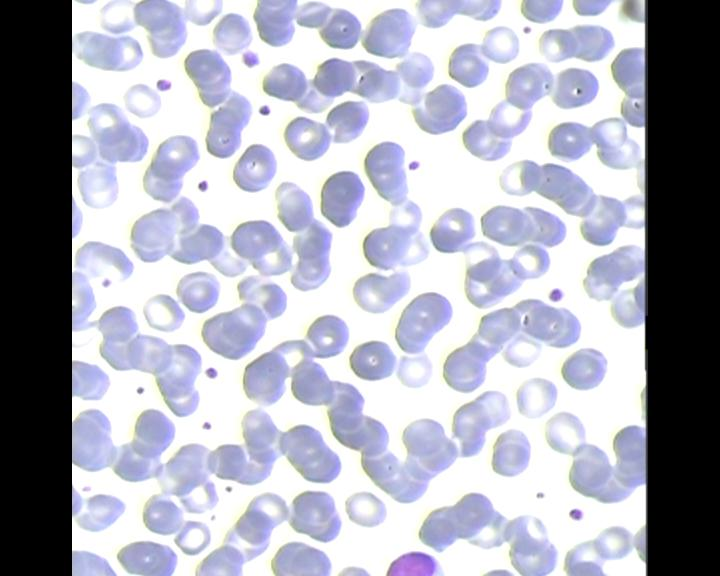lymp: (385, 550, 449, 576)
